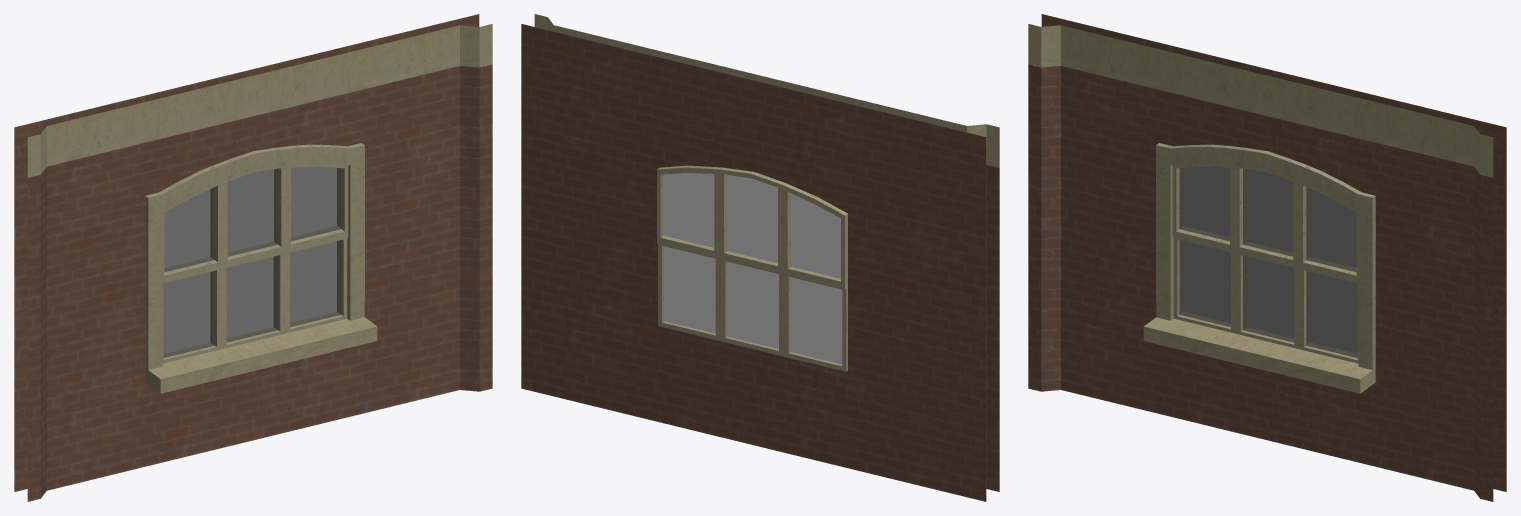
Rendered from Brick_Inset_Window_Curved.gltf.
3 views of the same model, side by side, from view 1: azimuth 30°, elevation 25°; view 2: azimuth 150°, elevation 25°; view 3: azimuth 330°, elevation 25° (orthographic).
Visible parts, largest first — view 1: Brick_Inset_Window_Curved; view 2: Brick_Inset_Window_Curved; view 3: Brick_Inset_Window_Curved.
Boxes of the visible parts, box(x1,y1,x2,y2) form: Brick_Inset_Window_Curved: box(14, 14, 492, 501); Brick_Inset_Window_Curved: box(521, 14, 999, 501); Brick_Inset_Window_Curved: box(1028, 14, 1506, 501).
Bounding box in the file's own units: 4 × 3 × 0.3738.
Materials: 5 (3 with a texture image).
